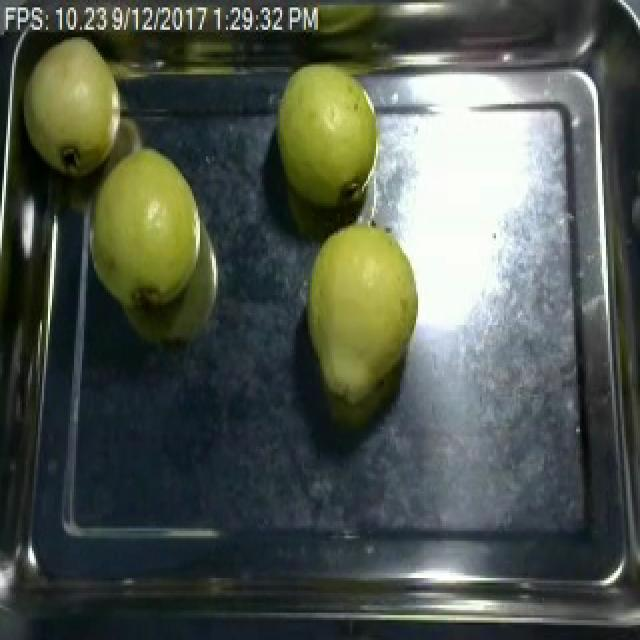Fruit: (74, 132, 224, 352), (296, 208, 430, 420), (4, 20, 138, 191), (270, 52, 394, 221)
